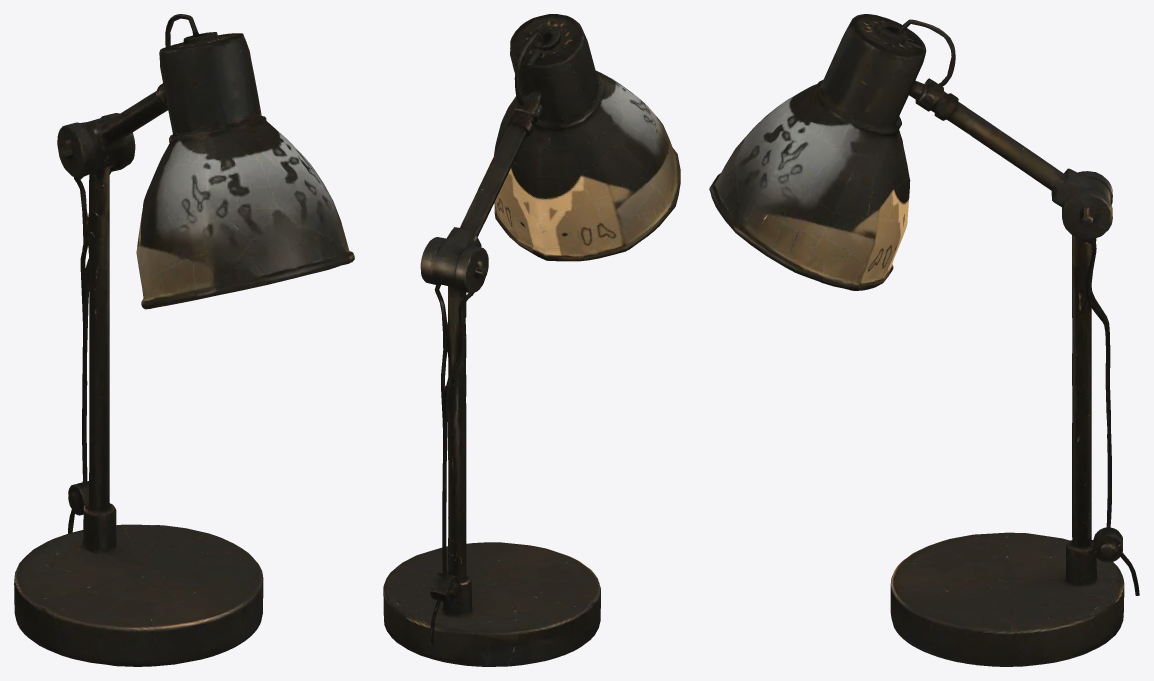
File: reading-lamp.glb
The picture shows the model from 3 angles, left to right: view 1: azimuth 30°, elevation 25°; view 2: azimuth 150°, elevation 25°; view 3: azimuth 270°, elevation 25°; orthographic projection. The views are drawn at different scales.
Bounding box in the file's own units: 0.6719 × 1.9 × 1.24.
Materials: 1 (1 with a texture image).
